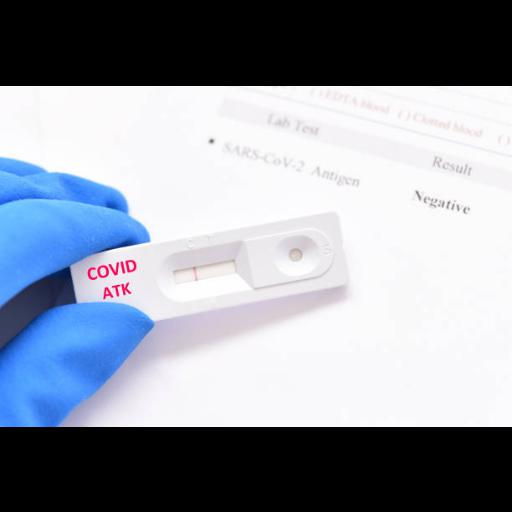Neg: (69, 209, 353, 337)
